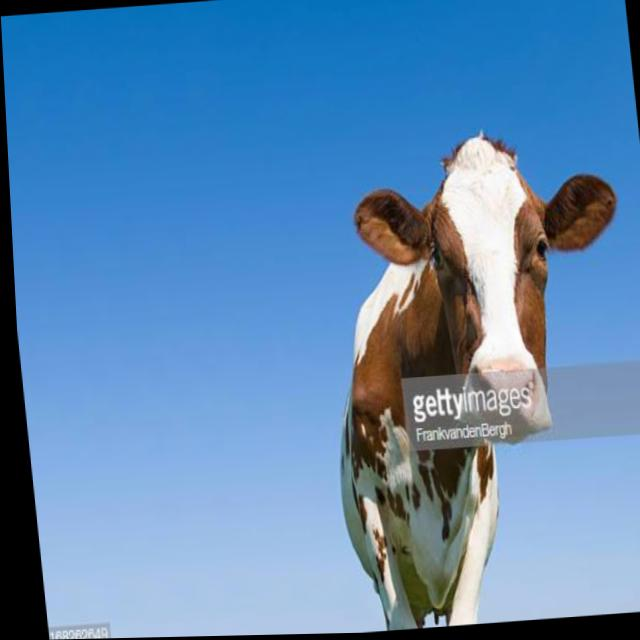cowFace: (339, 111, 640, 458)
